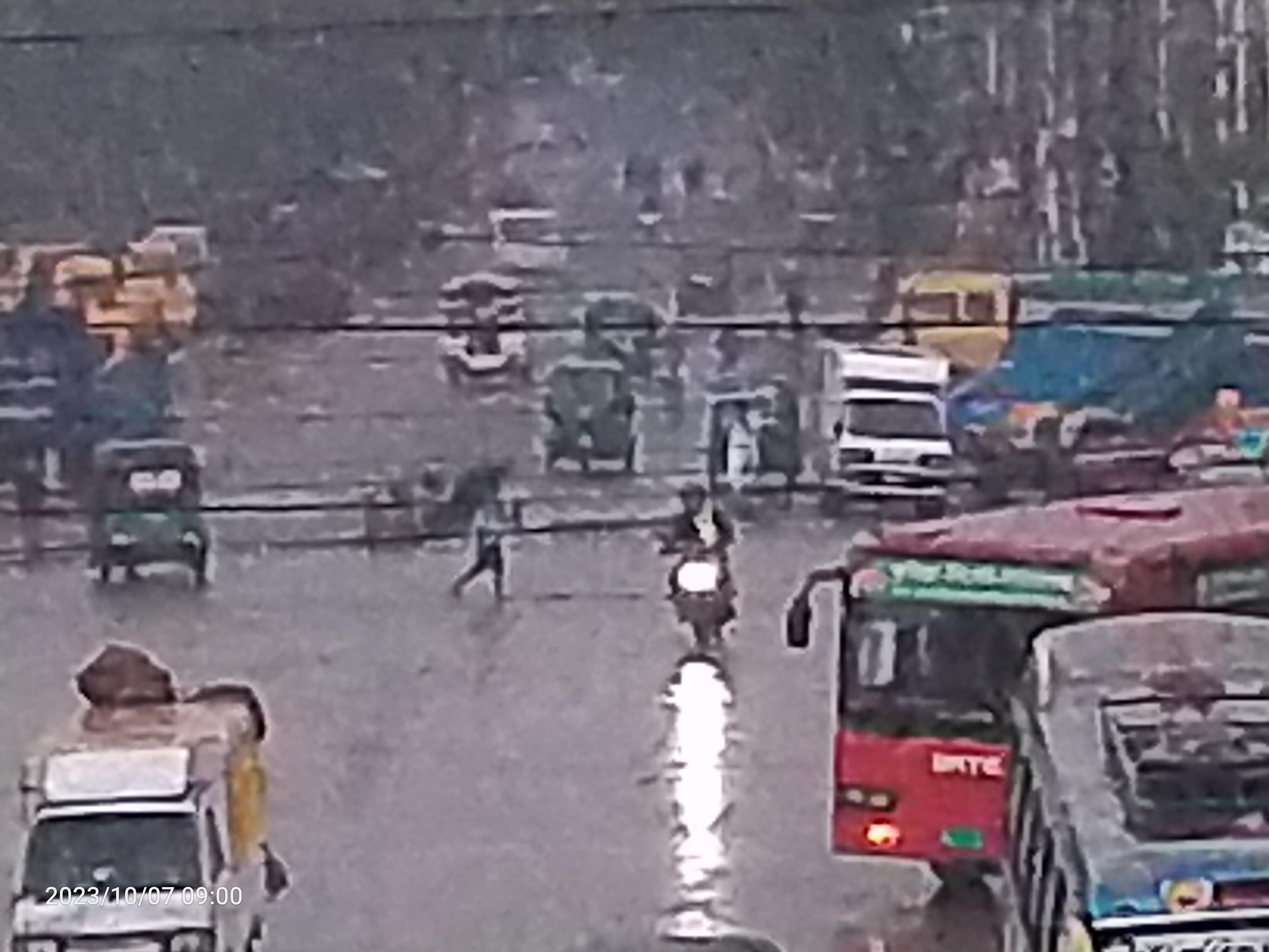Bus: (760, 456, 1269, 888), (970, 600, 1269, 952)
Car: (767, 294, 980, 533), (417, 252, 575, 405), (476, 190, 615, 293)
Truck: (0, 642, 320, 952)
